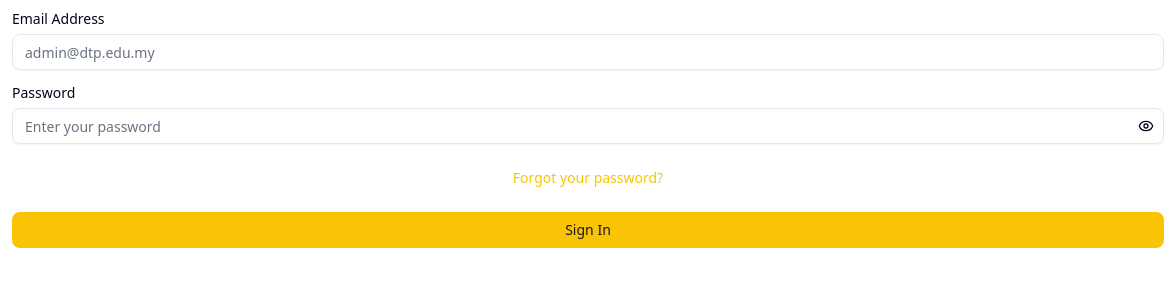
Test case: LoginForm › validates email format on form submission
# Test with empty email (should show validation error)
Type "password123" into the password field with placeholder "Enter your password" at (588, 126), box [12,108,1164,144]
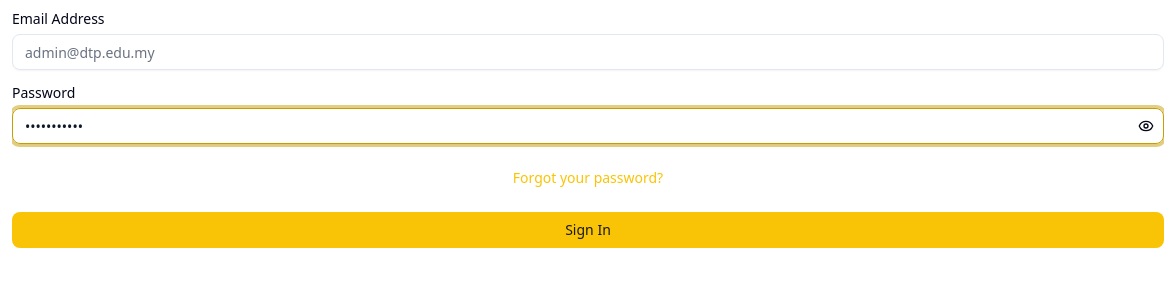
Click the button "Sign In" at (588, 230), box [12,212,1164,248]
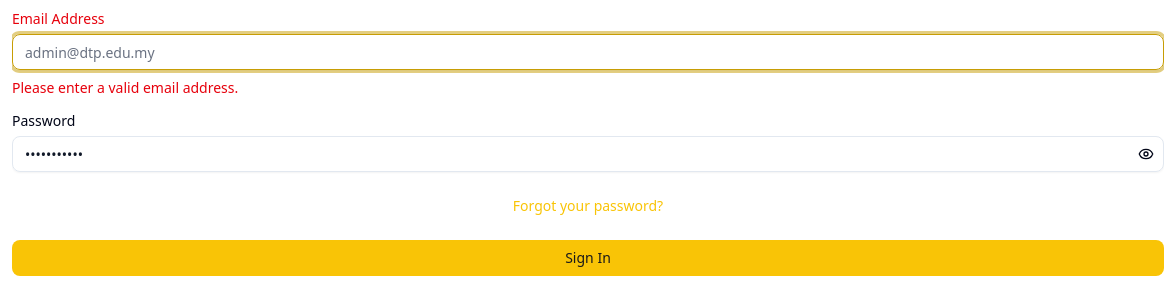
expect the text "Please enter a valid email address." is shown: met, box [12,78,238,97]
